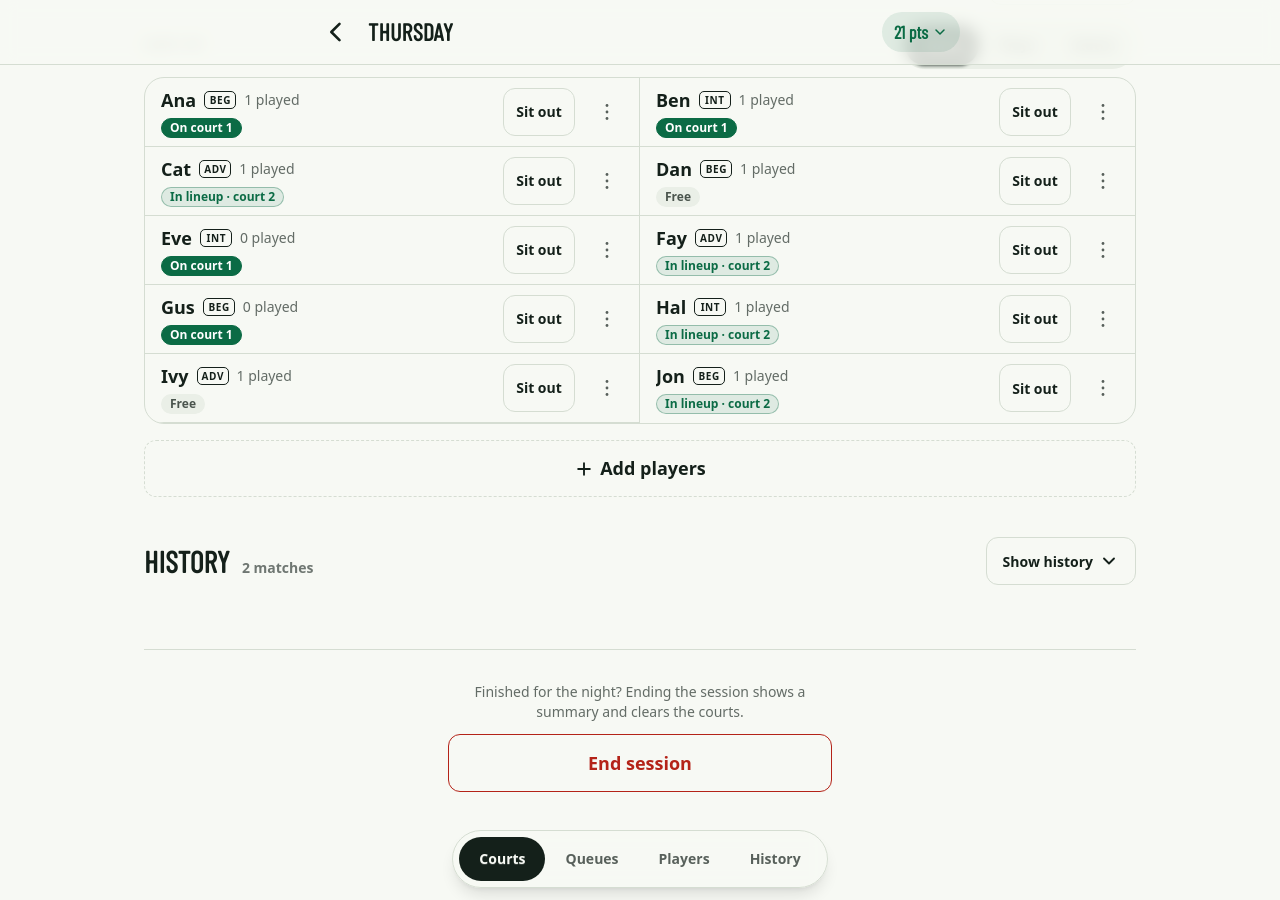
Test: HistorySection › lists ended matches newest first with teams, score and duration
The width and height of the screenshot is (1280, 900).
(page scrolled)
Click the button "Show history" at (1061,561), box [986,537,1136,585]
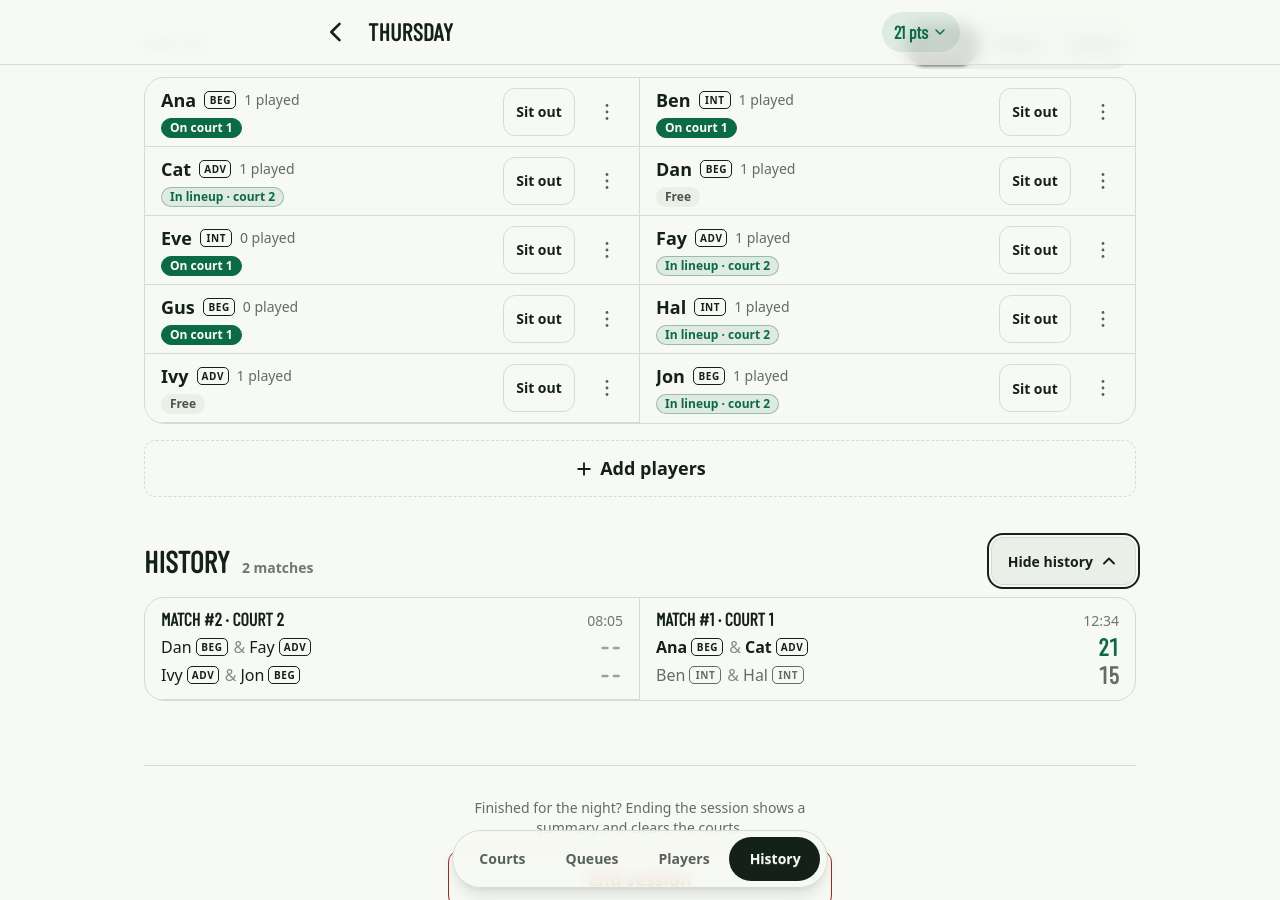
Expected: the text "Match #2 · Court 2" is shown, [161,610,284,628]
Expected: the text "08:05" is shown, [587,611,623,631]
Expected: the text "Dan" below "2 matches" is shown, [161,636,192,658]
